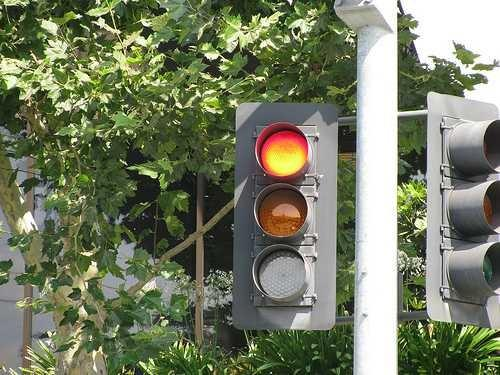red: (249, 116, 322, 312), (242, 110, 317, 186)
